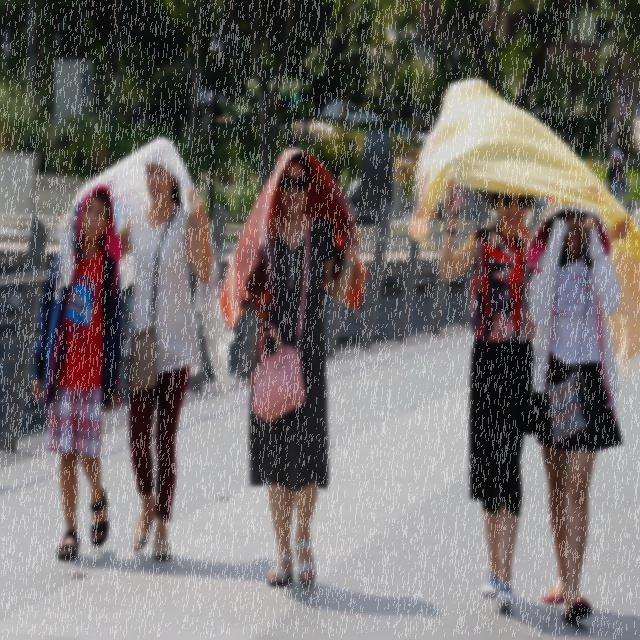pessoa: (437, 170, 632, 606), (218, 145, 369, 589), (56, 136, 212, 560), (526, 183, 624, 625), (30, 183, 124, 567), (459, 186, 492, 231), (608, 147, 626, 207), (439, 202, 451, 225)
